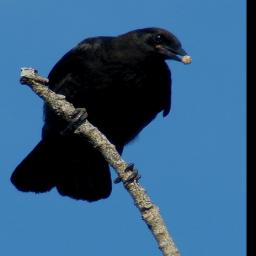Crow: (9, 26, 194, 204)
